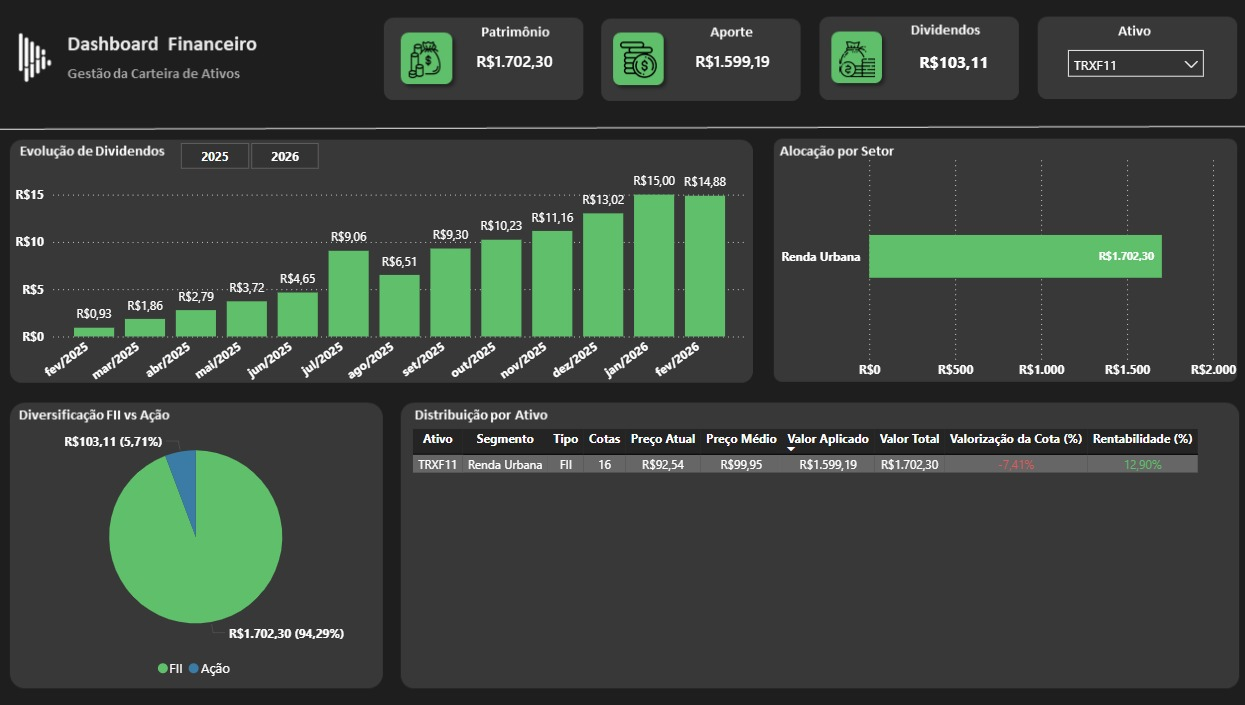

The dashboard page shown, as its layout file describes it:
{"tool":"powerbi","page":{"name":"Visão Geral","canvas":[1280,720],"ordinal":0},"visuals":[{"type":"cardVisual","fields":{"Data":["Medidas.Patrimonio"]},"box":[396.8,22.4,200.2,82.6],"z":0},{"type":"cardVisual","fields":{"Data":["Medidas.TotalDividendos"]},"box":[836.4,23.6,200.9,82.7],"z":1000},{"type":"slicer","fields":{"Values":["dAtivos.Ativo"]},"box":[1077.3,44,157.1,61.9],"z":2000},{"type":"slicer","fields":{"Values":["dCalendario.Ano"]},"box":[167,140.9,189.4,35.9],"z":3000},{"type":"pieChart","fields":{"Category":["fAportes.Tipo"],"Y":["Medidas.Patrimonio"]},"box":[21.5,422.8,374.4,272.9],"z":4000},{"type":"tableEx","fields":{"Values":["dAtivos.Ativo","dAtivos.Segmento","dAtivos.Tipo","dVisãoGeral.Cotas","dVisãoGeral.Preço Atual","dVisãoGeral.Preço Médio","dVisãoGeral.Valor Aplicado","dVisãoGeral.Valor Total","Sum(dVisãoGeral.Valorização da Cota)","Sum(dVisãoGeral.Rentabilidade)"]},"box":[421.3,431.4,833.5,265.1],"z":5000},{"type":"columnChart","fields":{"Category":["dCalendario.MesAno"],"Y":["Sum(fDividendos.Dividendo)"]},"box":[21.2,159.2,746.8,247.9],"z":6000},{"type":"cardVisual","fields":{"Data":["Medidas.TotalAportes"]},"box":[615.9,22.4,200.2,82.6],"z":7000},{"type":"barChart","fields":{"Category":["dAtivos.Segmento"],"Y":["Medidas.Patrimonio"]},"box":[789.2,148.2,482.8,246.9],"z":8000}]}

Visuals, with their boxes in screenshot pixels (x1, y1, x2, y2), scaled from the page's 1280x720 canvas onto the 1245x705 screenshot:
cardVisual - Medidas.Patrimonio: x1=386 y1=22 x2=581 y2=103
cardVisual - Medidas.TotalDividendos: x1=814 y1=23 x2=1009 y2=104
slicer - dAtivos.Ativo: x1=1048 y1=43 x2=1201 y2=104
slicer - dCalendario.Ano: x1=162 y1=138 x2=347 y2=173
pieChart - fAportes.Tipo x Medidas.Patrimonio: x1=21 y1=414 x2=385 y2=681
tableEx - dAtivos.Ativo x dAtivos.Segmento: x1=410 y1=422 x2=1220 y2=682
columnChart - dCalendario.MesAno x Sum(fDividendos.Dividendo): x1=21 y1=156 x2=747 y2=399
cardVisual - Medidas.TotalAportes: x1=599 y1=22 x2=794 y2=103
barChart - dAtivos.Segmento x Medidas.Patrimonio: x1=768 y1=145 x2=1237 y2=387
